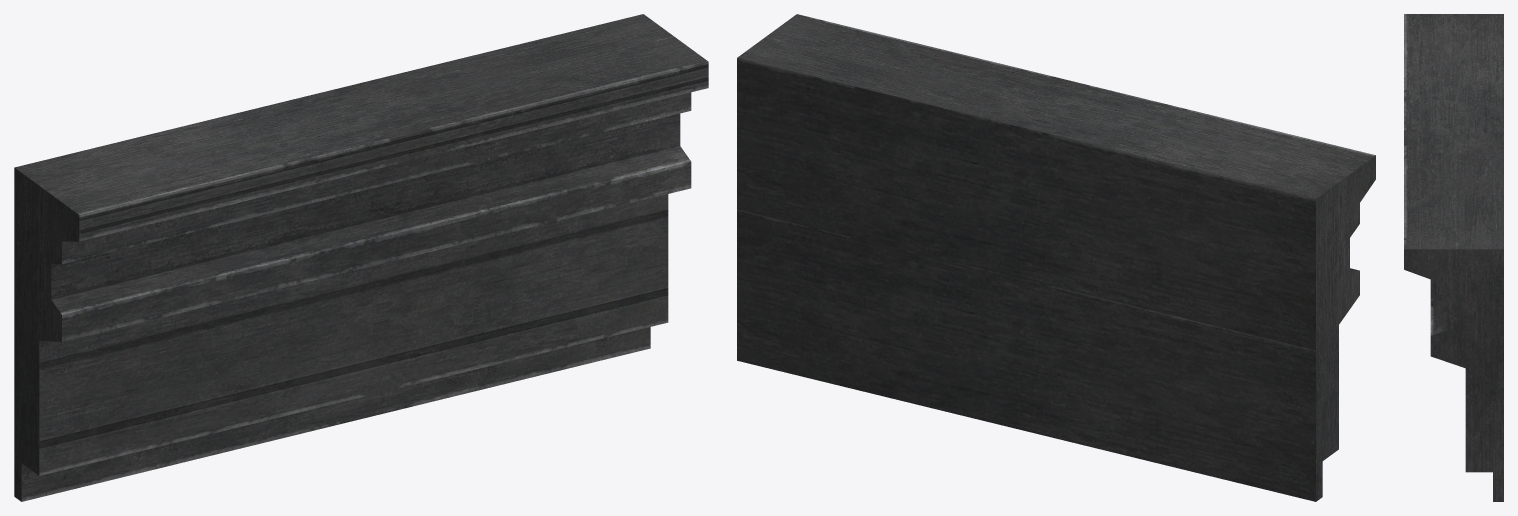
File: House_07_Parapet_02.fbx
3 views of the same model, side by side, from view 1: azimuth 30°, elevation 25°; view 2: azimuth 150°, elevation 25°; view 3: azimuth 270°, elevation 25° (orthographic). The views are drawn at different scales.
Visible parts, largest first — view 1: House_07_Parapet_02; view 2: House_07_Parapet_02; view 3: House_07_Parapet_02.
Boxes of the visible parts, x1,y1,x2,y2 form: House_07_Parapet_02: (14,14,708,501); House_07_Parapet_02: (737,14,1375,501); House_07_Parapet_02: (1404,14,1503,501).
Size of the model in its own units: 200 by 100 by 35.83.
